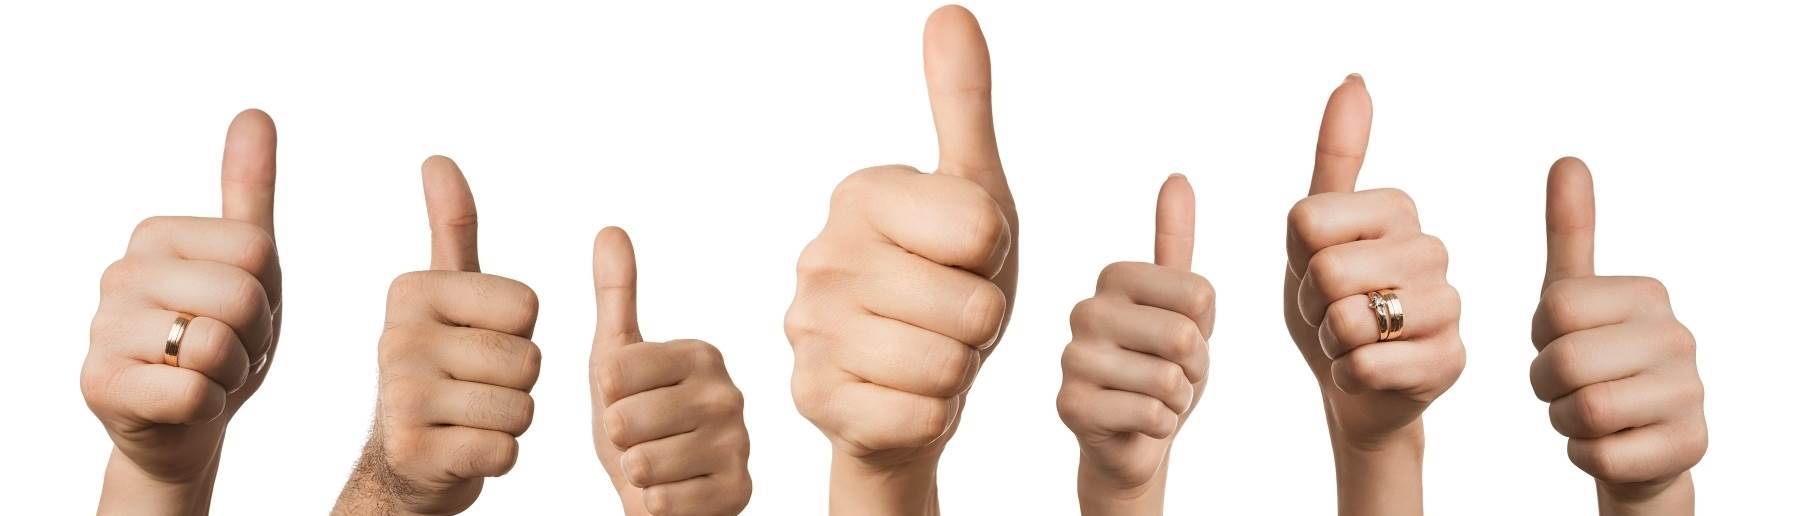thumbsup: (778, 6, 1025, 473), (80, 103, 286, 472), (1275, 69, 1472, 432), (1524, 154, 1717, 495), (370, 151, 548, 493), (1054, 168, 1221, 475), (585, 223, 757, 516)
